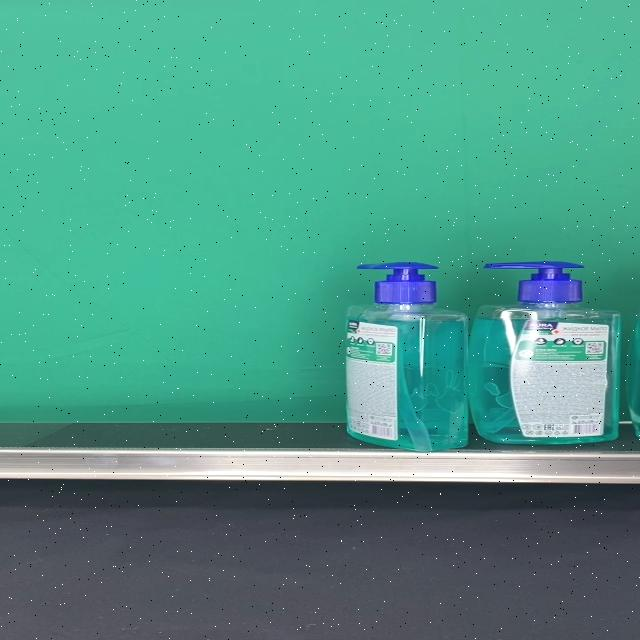Bottle: (472, 262, 620, 444), (344, 263, 470, 451)
Cap: (484, 262, 584, 304), (356, 263, 438, 304)
